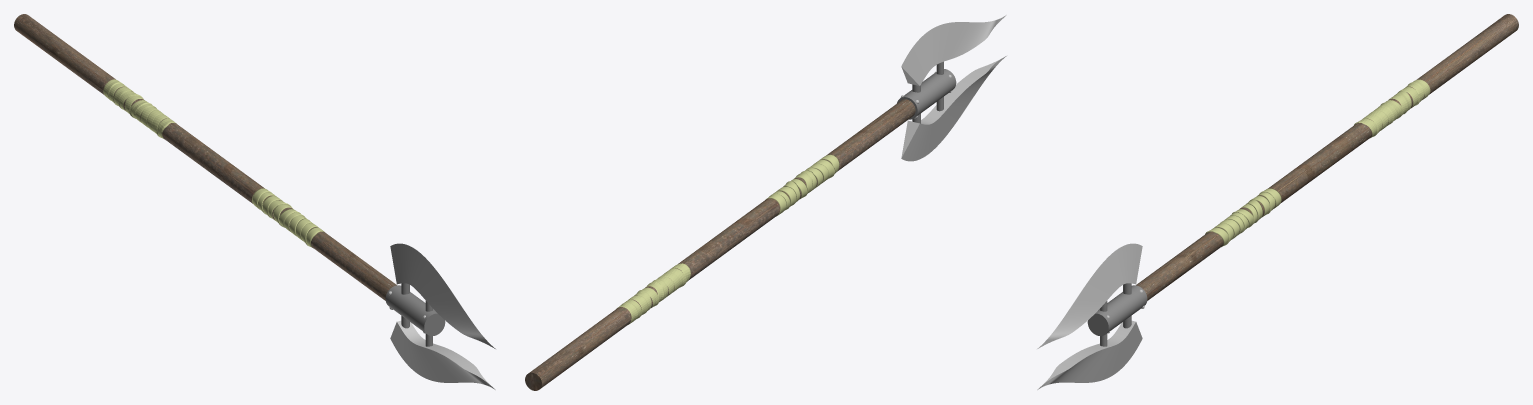
Rendered from spear.glb.
The picture shows the model from 3 angles, left to right: view 1: azimuth 30°, elevation 25°; view 2: azimuth 150°, elevation 25°; view 3: azimuth 330°, elevation 25°; orthographic projection.
Parts seen in each view (by area): view 1: wooden spear, blade 1, blade 2, wrap upper, wrap lower, metal rod; view 2: wooden spear, blade 1, blade 2, wrap upper, wrap lower, metal rod; view 3: wooden spear, blade 1, blade 2, wrap lower, wrap upper, metal rod.
Boxes of the visible parts, x1,y1,x2,y2 form: wooden spear: [14, 14, 396, 300]; blade 1: [390, 243, 495, 348]; blade 2: [390, 320, 495, 389]; wrap upper: [252, 188, 324, 247]; wrap lower: [103, 79, 176, 139]; metal rod: [385, 285, 445, 336]; wooden spear: [525, 99, 915, 390]; blade 1: [901, 15, 1006, 85]; blade 2: [901, 56, 1006, 161]; wrap upper: [765, 154, 839, 216]; wrap lower: [616, 263, 690, 324]; metal rod: [897, 69, 956, 119]; wooden spear: [1136, 14, 1518, 300]; blade 1: [1037, 243, 1142, 348]; blade 2: [1037, 320, 1142, 389]; wrap lower: [1354, 79, 1430, 138]; wrap upper: [1205, 188, 1281, 247]; metal rod: [1087, 285, 1147, 336].
Bounding box in the file's own units: 30.11 × 168 × 1173.
4 materials, 1 textured.
